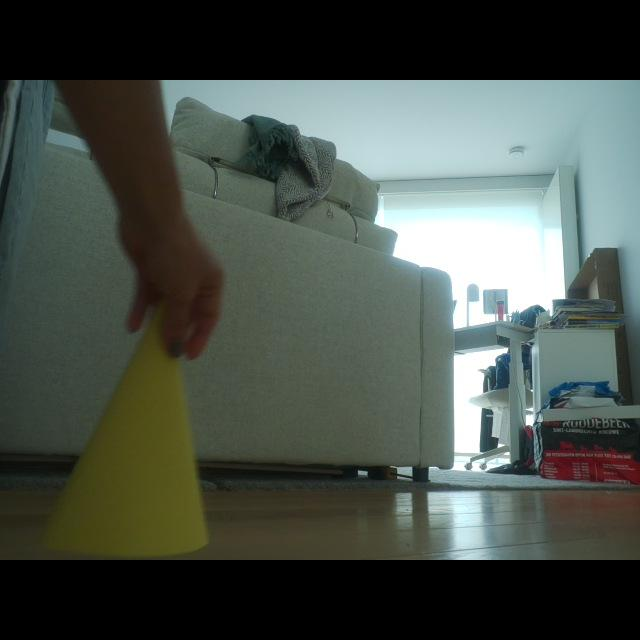bolya: (45, 310, 208, 556)
